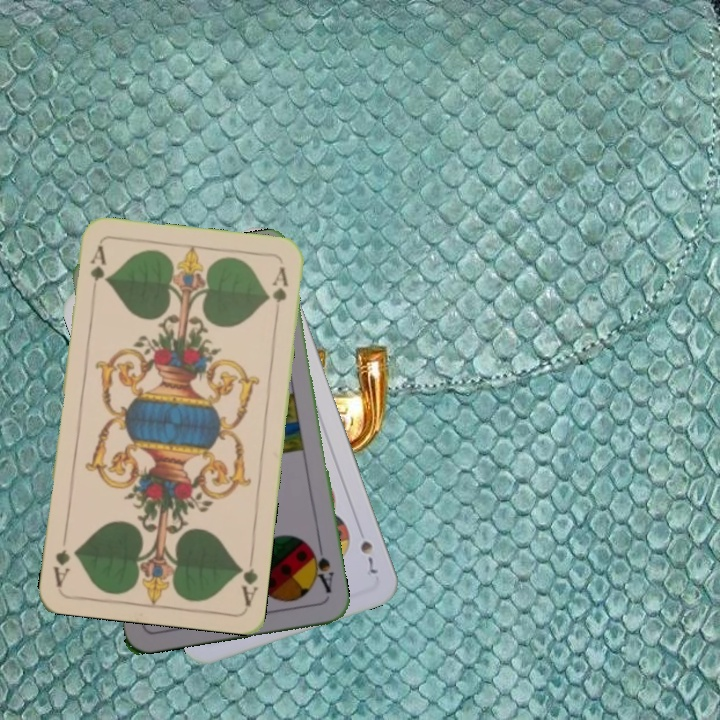GA: (234, 549, 260, 609), (86, 241, 109, 299)
S7: (356, 536, 380, 577)
SA: (305, 540, 336, 596)
